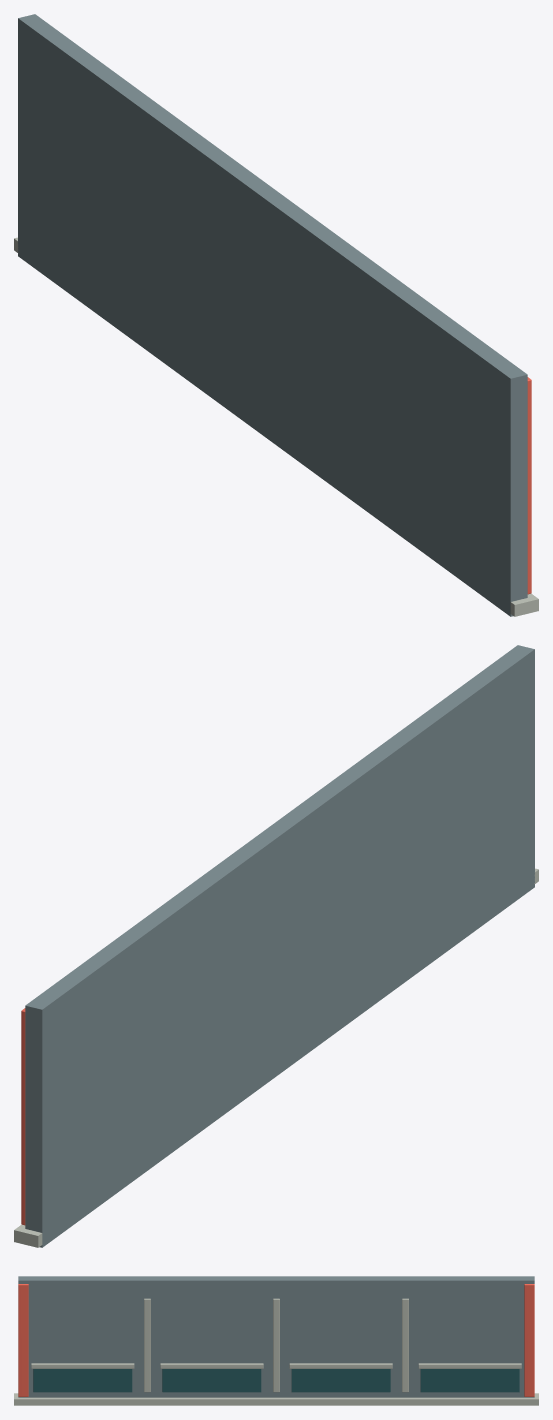
File: d03_apartment_family_07.glb
The picture shows the model from 3 angles, top to bottom: view 1: azimuth 30°, elevation 25°; view 2: azimuth 150°, elevation 25°; view 3: azimuth 270°, elevation 25°; orthographic projection. The views are drawn at different scales.
Parts seen in each view (by area): view 1: D03ApartmentFamily07_Mesh; view 2: D03ApartmentFamily07_Mesh; view 3: D03ApartmentFamily07_Mesh.
Part boxes in pixels (box(x1,y1,x2,y2)): D03ApartmentFamily07_Mesh: box(14, 14, 538, 616); D03ApartmentFamily07_Mesh: box(14, 645, 538, 1247); D03ApartmentFamily07_Mesh: box(14, 1276, 538, 1405).
Size of the model in its own units: 0.34 by 3.2 by 12.2.
